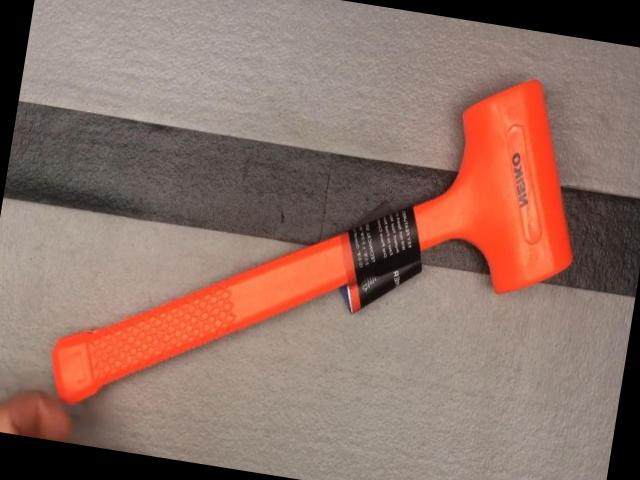hammer: (42, 10, 601, 480)
